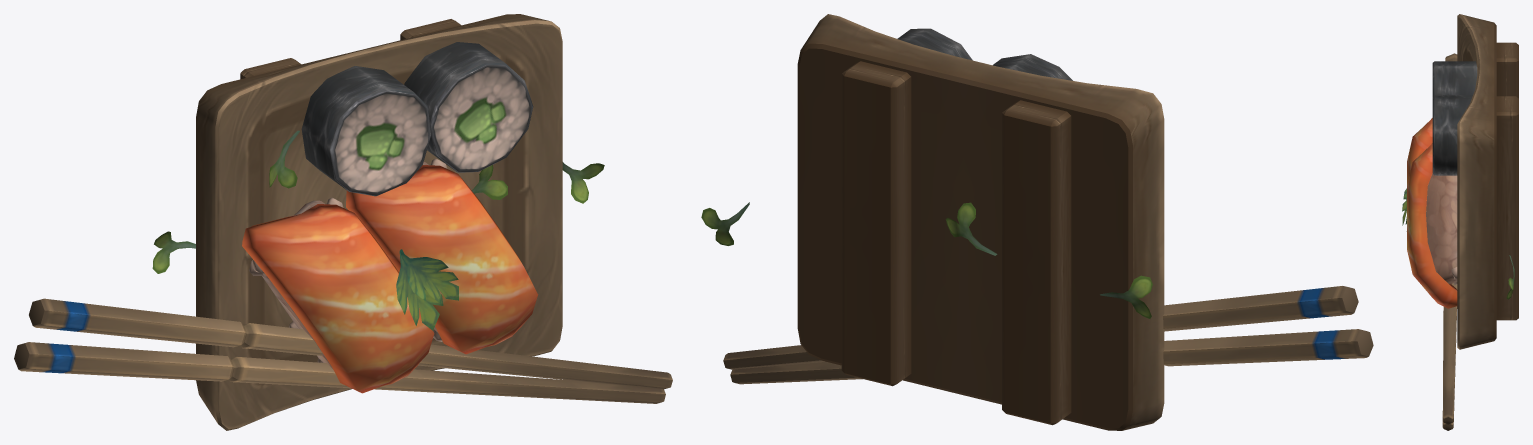
The model's file is sushi.obj.
3 renders of one model, left to right at view 1: azimuth 30°, elevation 25°; view 2: azimuth 150°, elevation 25°; view 3: azimuth 270°, elevation 25°, orthographic. The views are drawn at different scales.
Visible parts, largest first — view 1: SF_Box005_TextureAtlas_Free_0, SF_Chopstick_TextureAtlas_Free_0, Nigiri_Sake001_TextureAtlas_Free_0, Nigiri_Sake_TextureAtlas_Free_0, Maki_002_TextureAtlas_Free_0, Maki_01_TextureAtlas_Free_0, Leaf_003_TextureAtlas_Free_0, Leaf_02_TextureAtlas_Free_0, SF_Leaf_010_TextureAtlas_Free_0, SF_Leaf_013_TextureAtlas_Free_0, SF_Leaf_011_TextureAtlas_Free_0, SF_Leaf_012_TextureAtlas_Free_0; view 2: SF_Box005_TextureAtlas_Free_0, SF_Chopstick_TextureAtlas_Free_0, Maki_01_TextureAtlas_Free_0, Maki_002_TextureAtlas_Free_0, SF_Leaf_014_TextureAtlas_Free_0, SF_Leaf_013_TextureAtlas_Free_0, SF_Leaf_010_TextureAtlas_Free_0; view 3: SF_Box005_TextureAtlas_Free_0, Nigiri_Sake_TextureAtlas_Free_0, Maki_01_TextureAtlas_Free_0, SF_Chopstick_TextureAtlas_Free_0, Maki_002_TextureAtlas_Free_0, Nigiri_Sake001_TextureAtlas_Free_0, SF_Leaf_010_TextureAtlas_Free_0.
Part boxes in pixels (x1,y1,x2,y2): SF_Box005_TextureAtlas_Free_0: (196, 14, 562, 430); SF_Chopstick_TextureAtlas_Free_0: (14, 298, 672, 403); Nigiri_Sake001_TextureAtlas_Free_0: (242, 197, 434, 393); Nigiri_Sake_TextureAtlas_Free_0: (346, 158, 538, 354); Maki_002_TextureAtlas_Free_0: (301, 66, 430, 196); Maki_01_TextureAtlas_Free_0: (404, 42, 533, 172); Leaf_003_TextureAtlas_Free_0: (400, 252, 458, 303); Leaf_02_TextureAtlas_Free_0: (396, 249, 443, 330); SF_Leaf_010_TextureAtlas_Free_0: (562, 162, 604, 203); SF_Leaf_013_TextureAtlas_Free_0: (152, 231, 195, 273); SF_Leaf_011_TextureAtlas_Free_0: (269, 130, 299, 188); SF_Leaf_012_TextureAtlas_Free_0: (472, 165, 507, 199); SF_Box005_TextureAtlas_Free_0: (797, 14, 1164, 430); SF_Chopstick_TextureAtlas_Free_0: (723, 286, 1373, 384); Maki_01_TextureAtlas_Free_0: (897, 28, 972, 60); Maki_002_TextureAtlas_Free_0: (993, 54, 1072, 80); SF_Leaf_014_TextureAtlas_Free_0: (945, 202, 997, 255); SF_Leaf_013_TextureAtlas_Free_0: (1100, 275, 1152, 318); SF_Leaf_010_TextureAtlas_Free_0: (701, 202, 749, 245); SF_Box005_TextureAtlas_Free_0: (1457, 14, 1518, 349); Nigiri_Sake_TextureAtlas_Free_0: (1407, 143, 1457, 308); Maki_01_TextureAtlas_Free_0: (1432, 95, 1472, 175); SF_Chopstick_TextureAtlas_Free_0: (1442, 53, 1457, 430); Maki_002_TextureAtlas_Free_0: (1432, 61, 1477, 96); Nigiri_Sake001_TextureAtlas_Free_0: (1407, 118, 1432, 185); SF_Leaf_010_TextureAtlas_Free_0: (1506, 255, 1514, 299).
Bounding box in the file's own units: 1.8 × 1.07 × 0.4083.
